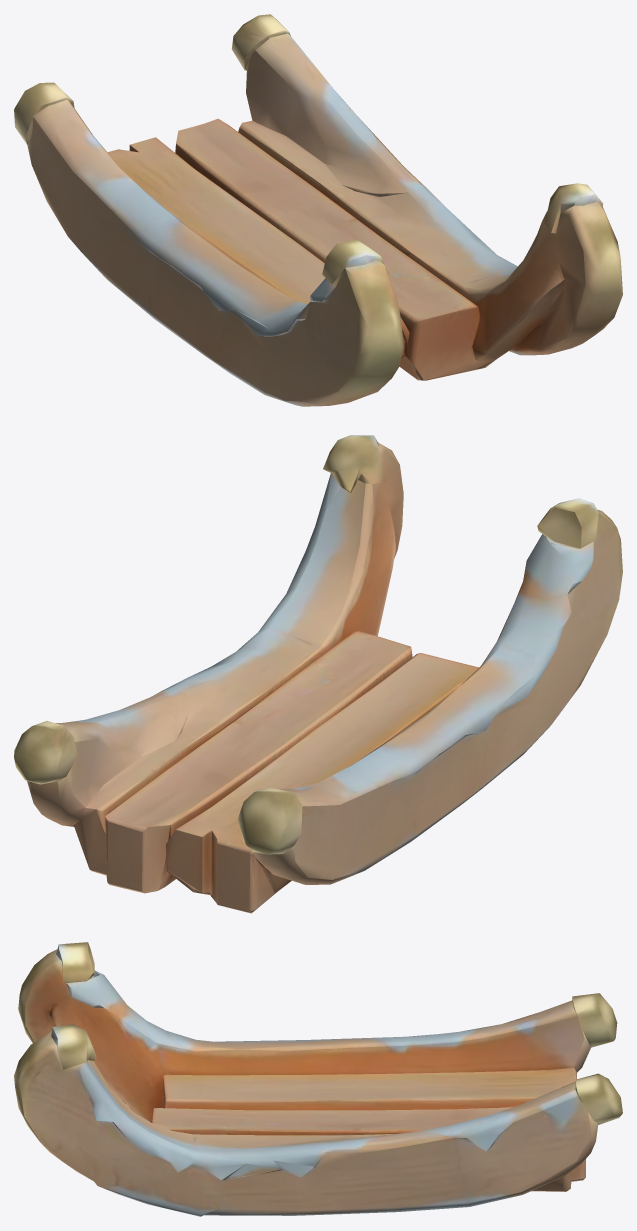
The model's file is m2ToySled.glb.
The picture shows the model from 3 angles, top to bottom: view 1: azimuth 30°, elevation 25°; view 2: azimuth 150°, elevation 25°; view 3: azimuth 270°, elevation 25°; orthographic projection. The views are drawn at different scales.
Parts seen in each view (by area): view 1: model; view 2: model; view 3: model.
Part boxes in pixels (x1,y1,x2,y2): model: (14, 14, 622, 406); model: (14, 435, 622, 913); model: (14, 942, 622, 1216).
Size of the model in its own units: 0.8479 by 0.6328 by 1.9.
Materials: 1 (1 with a texture image).
